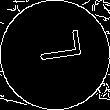L_W: (28, 36, 82, 74)
